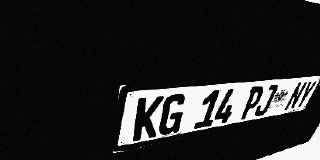1: (194, 90, 224, 129)
4: (212, 88, 241, 125)
G: (157, 93, 188, 136)
J: (252, 84, 279, 117)
K: (132, 96, 164, 141)
N: (283, 81, 308, 111)
P: (238, 85, 266, 120)
Y: (294, 80, 318, 109)
